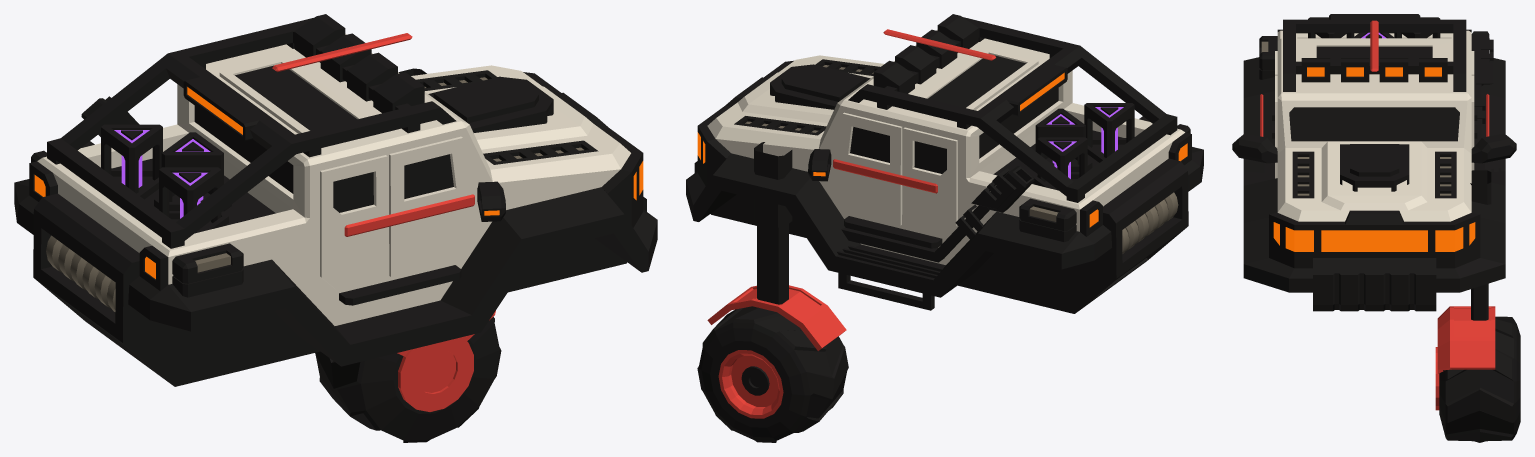
File: han-han.glb
3 views of the same model, side by side, from view 1: azimuth 30°, elevation 25°; view 2: azimuth 150°, elevation 25°; view 3: azimuth 270°, elevation 25° (orthographic). The views are drawn at different scales.
Parts seen in each view (by area): view 1: common, bodyPainted.001, wheel.006, wheelGuard.001, energy.001, cellsCage.003, cellsCage.005, cellsCage.004, hanHanSignalLineLeft, hanHanSignalLineTop; view 2: common, bodyPainted.001, wheel.006, wheelSuspension.002, wheelGuard.001, wheelPainted, energy.001, cellsCage.005, cellsCage.003, cellsCage.004, hanHanSignalLineRight, hanHanSignalLineTop; view 3: common, bodyPainted.001, wheel.006, headlights.001, wheelGuard.001, wheelSuspension.002, hanHanSignalLineTop, energy.001, cellsCage.003, cellsCage.005.
Boxes of the visible parts, x1=… form: common: x1=14, y1=14, x2=657, y2=386; bodyPainted.001: x1=37, y1=33, x2=630, y2=325; wheel.006: x1=315, y1=317, x2=501, y2=442; wheelGuard.001: x1=397, y1=310, x2=495, y2=411; energy.001: x1=46, y1=77, x2=583, y2=311; cellsCage.003: x1=101, y1=124, x2=162, y2=193; cellsCage.005: x1=159, y1=167, x2=221, y2=233; cellsCage.004: x1=161, y1=132, x2=223, y2=201; hanHanSignalLineLeft: x1=344, y1=194, x2=474, y2=236; hanHanSignalLineTop: x1=272, y1=33, x2=412, y2=71; common: x1=686, y1=14, x2=1203, y2=313; bodyPainted.001: x1=707, y1=30, x2=1184, y2=264; wheel.006: x1=697, y1=306, x2=848, y2=442; wheelSuspension.002: x1=754, y1=142, x2=792, y2=304; wheelGuard.001: x1=707, y1=285, x2=846, y2=350; wheelPainted: x1=718, y1=350, x2=783, y2=418; energy.001: x1=745, y1=65, x2=1178, y2=253; cellsCage.005: x1=1084, y1=103, x2=1134, y2=157; cellsCage.003: x1=1037, y1=137, x2=1087, y2=190; cellsCage.004: x1=1035, y1=108, x2=1085, y2=164; hanHanSignalLineRight: x1=833, y1=159, x2=937, y2=193; hanHanSignalLineTop: x1=883, y1=29, x2=995, y2=60; common: x1=1232, y1=14, x2=1516, y2=311; bodyPainted.001: x1=1275, y1=30, x2=1474, y2=221; wheel.006: x1=1439, y1=316, x2=1520, y2=442; headlights.001: x1=1285, y1=67, x2=1463, y2=251; wheelGuard.001: x1=1435, y1=306, x2=1495, y2=410; wheelSuspension.002: x1=1470, y1=170, x2=1491, y2=320; hanHanSignalLineTop: x1=1370, y1=20, x2=1378, y2=71; energy.001: x1=1261, y1=41, x2=1451, y2=195; cellsCage.003: x1=1394, y1=17, x2=1440, y2=38; cellsCage.005: x1=1308, y1=17, x2=1354, y2=38.
Size of the model in its own units: 2.99 by 2.52 by 1.91.
